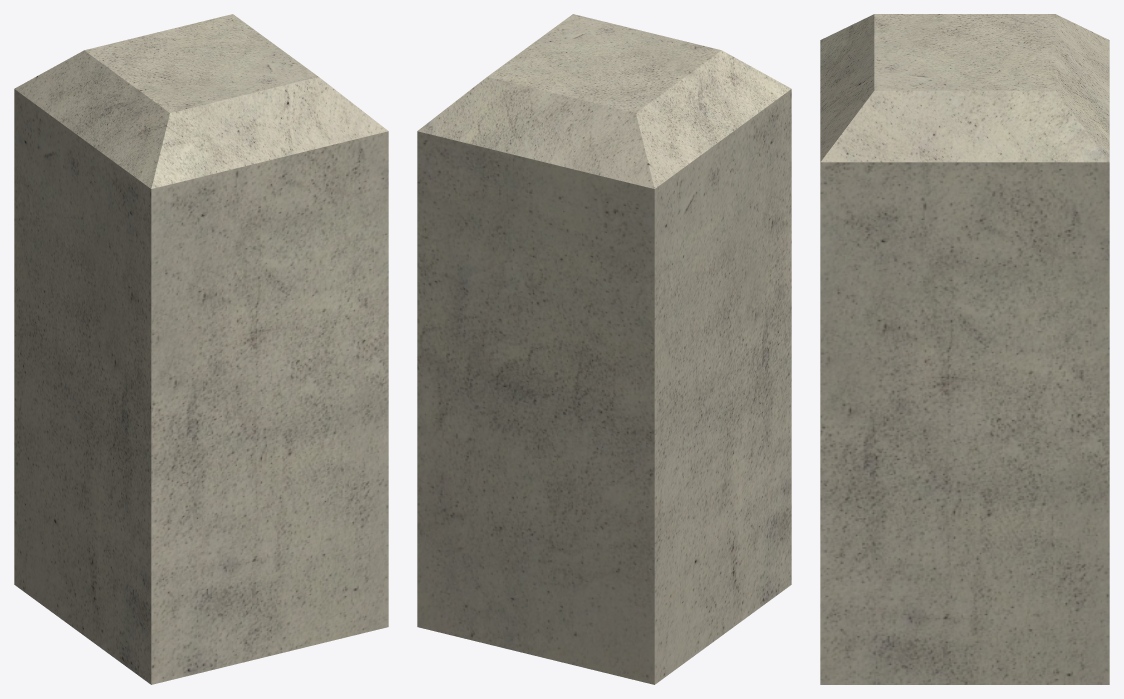
The model's file is GSDRailing5Post.FBX.
3 views of the same model, side by side, from view 1: azimuth 30°, elevation 25°; view 2: azimuth 150°, elevation 25°; view 3: azimuth 270°, elevation 25° (orthographic). The views are drawn at different scales.
Visible parts, largest first — view 1: CementFencePost; view 2: CementFencePost; view 3: CementFencePost.
Part boxes in pixels (left/top/right/bottom): CementFencePost: left=14, top=14, right=388, bottom=684; CementFencePost: left=417, top=14, right=791, bottom=684; CementFencePost: left=820, top=14, right=1109, bottom=684.
Size of the model in its own units: 0.55 by 1.2 by 0.55.
